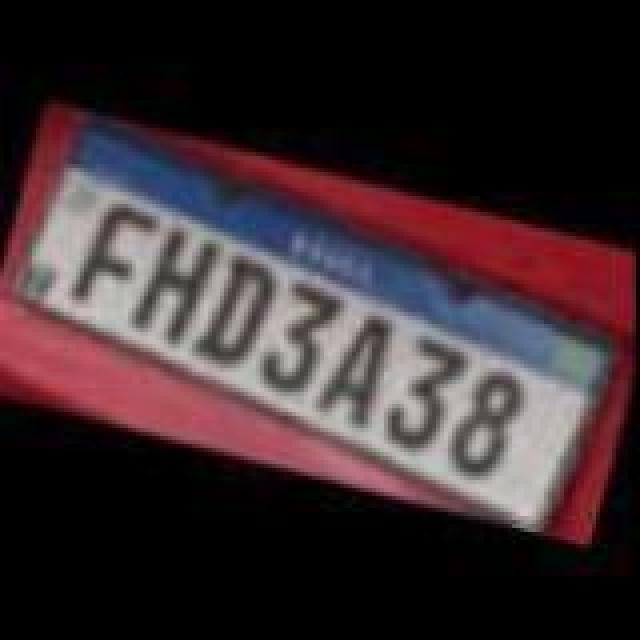3: (250, 274, 350, 402), (382, 324, 478, 452)
8: (442, 364, 530, 484)
A: (308, 304, 404, 436)
D: (190, 244, 290, 372)
F: (60, 188, 164, 316)
H: (122, 218, 230, 350)
